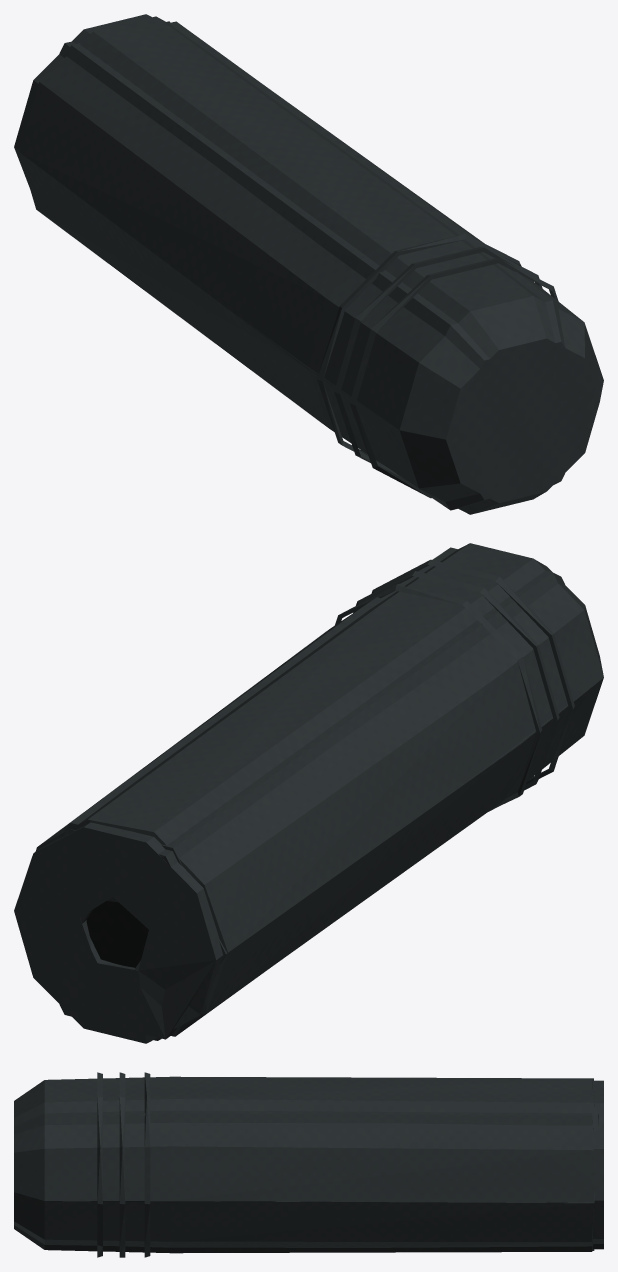
Rendered from mcx_can.glb.
3 renders of one model, top to bottom at view 1: azimuth 30°, elevation 25°; view 2: azimuth 150°, elevation 25°; view 3: azimuth 270°, elevation 25°, orthographic. The views are drawn at different scales.
Visible parts, largest first — view 1: muzzle__mcx_can_LOD0_RAID_Secondary_Original_steel, muzzle__mcx_can_LOD1_RAID_Secondary_Original_steel; view 2: muzzle__mcx_can_LOD0_RAID_Secondary_Original_steel, muzzle__mcx_can_LOD1_RAID_Secondary_Original_steel, muzzle__mcx_can_LOD0_RAID_Secondary_Original_rubber; view 3: muzzle__mcx_can_LOD0_RAID_Secondary_Original_steel, muzzle__mcx_can_LOD1_RAID_Secondary_Original_steel.
Boxes of the visible parts, bbox=[...] form: muzzle__mcx_can_LOD0_RAID_Secondary_Original_steel: bbox=[14, 14, 603, 514]; muzzle__mcx_can_LOD1_RAID_Secondary_Original_steel: bbox=[18, 21, 598, 510]; muzzle__mcx_can_LOD0_RAID_Secondary_Original_steel: bbox=[14, 543, 603, 1043]; muzzle__mcx_can_LOD1_RAID_Secondary_Original_steel: bbox=[15, 547, 595, 1039]; muzzle__mcx_can_LOD0_RAID_Secondary_Original_rubber: bbox=[86, 901, 148, 967]; muzzle__mcx_can_LOD0_RAID_Secondary_Original_steel: bbox=[14, 1072, 603, 1257]; muzzle__mcx_can_LOD1_RAID_Secondary_Original_steel: bbox=[14, 1076, 603, 1253].
Size of the model in its own units: 0.0671 by 0.0638 by 0.212.
Materials: 2 (2 with a texture image).
